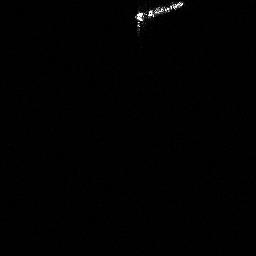ship: (134, 1, 184, 21)
